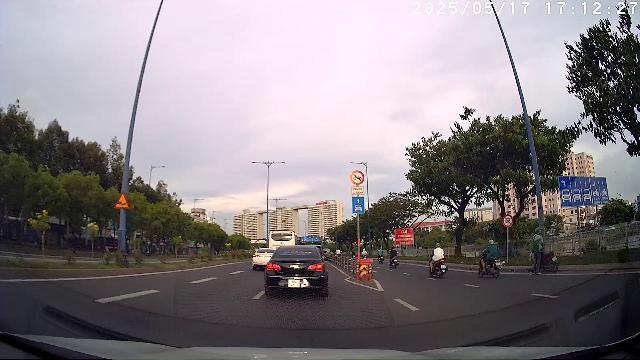103a-cam-oto: (502, 214, 514, 228)
